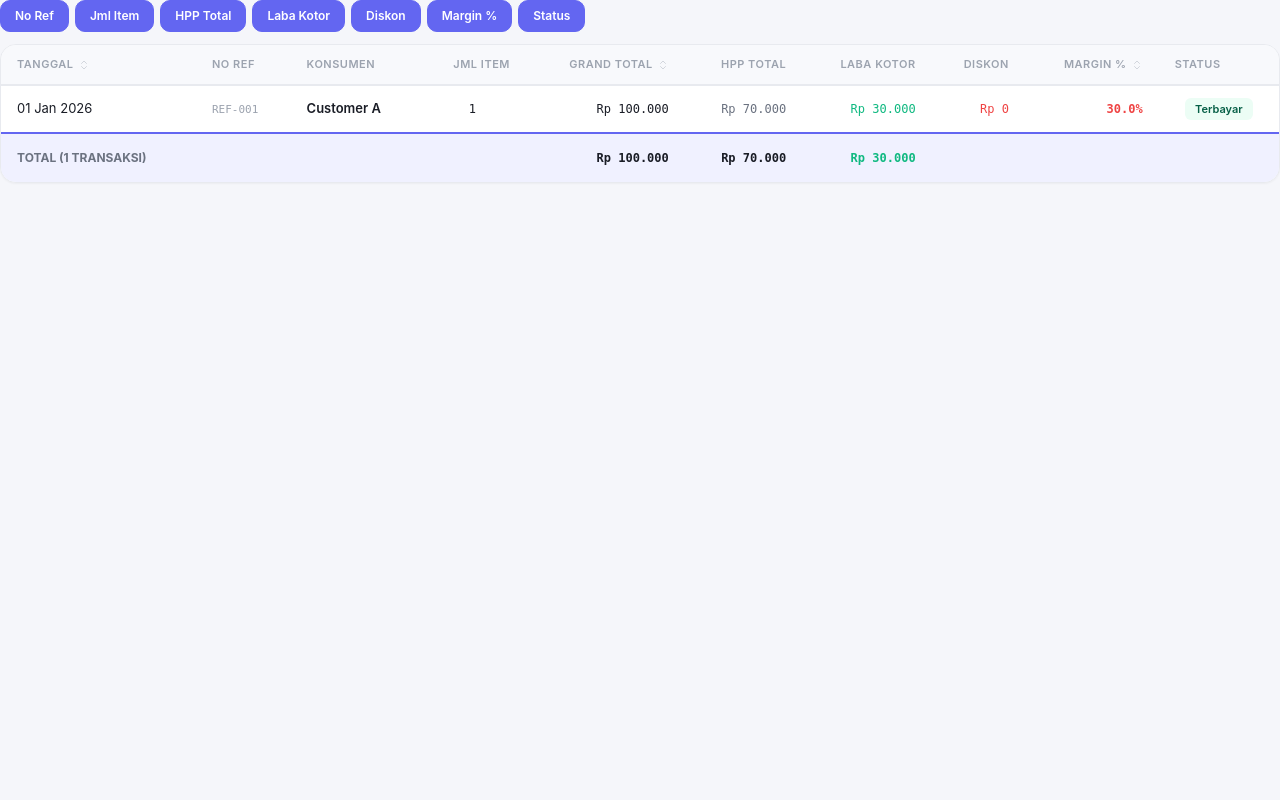
Scenario: slide-over › clicking the backdrop removes "Detail Transaksi" from DOM
Click the text "Customer A" at coordinates (640, 109), box x1=1 y1=84 x2=1279 y2=133
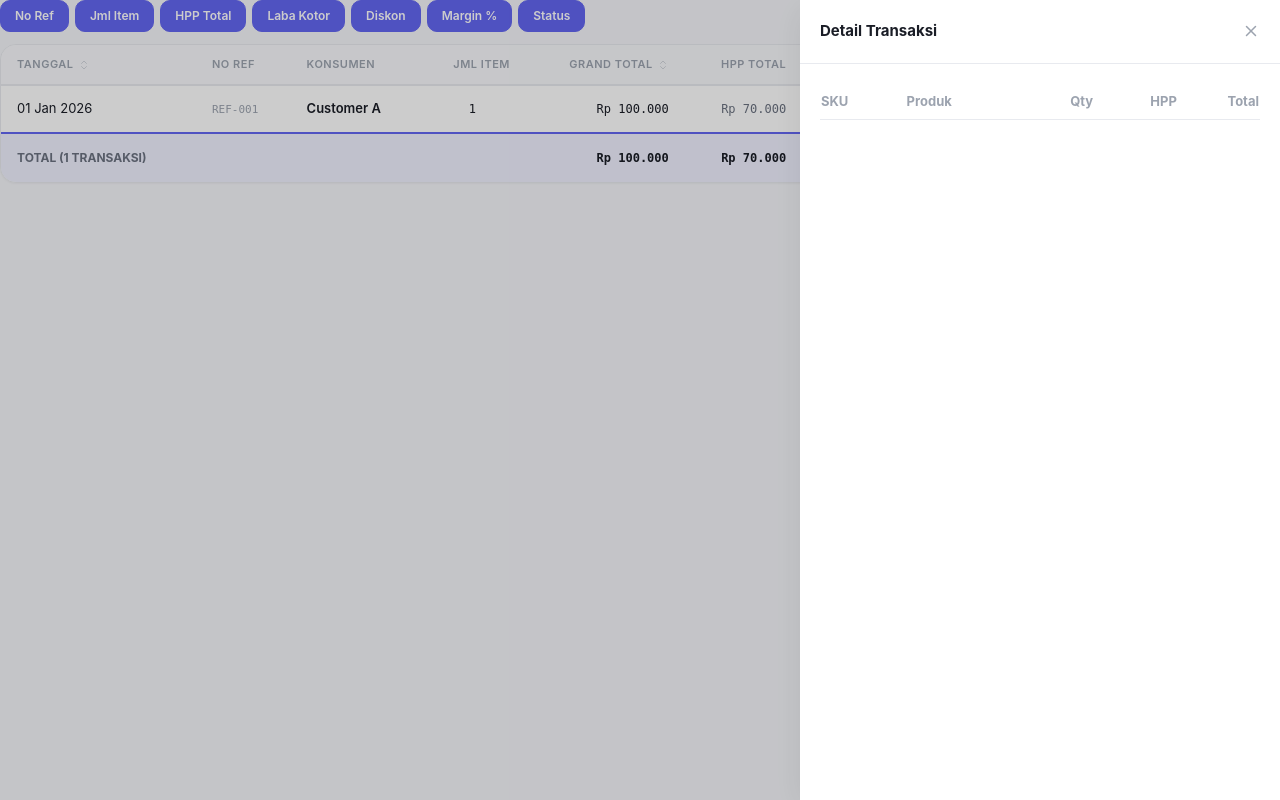
Check: the heading "Detail Transaksi" is shown, box x1=820 y1=20 x2=937 y2=42
Backdrop is a fixed overlay div — find by its role or test-id
Click the element with class "inset-0" at coordinates (640, 400), box x1=0 y1=0 x2=1279 y2=799
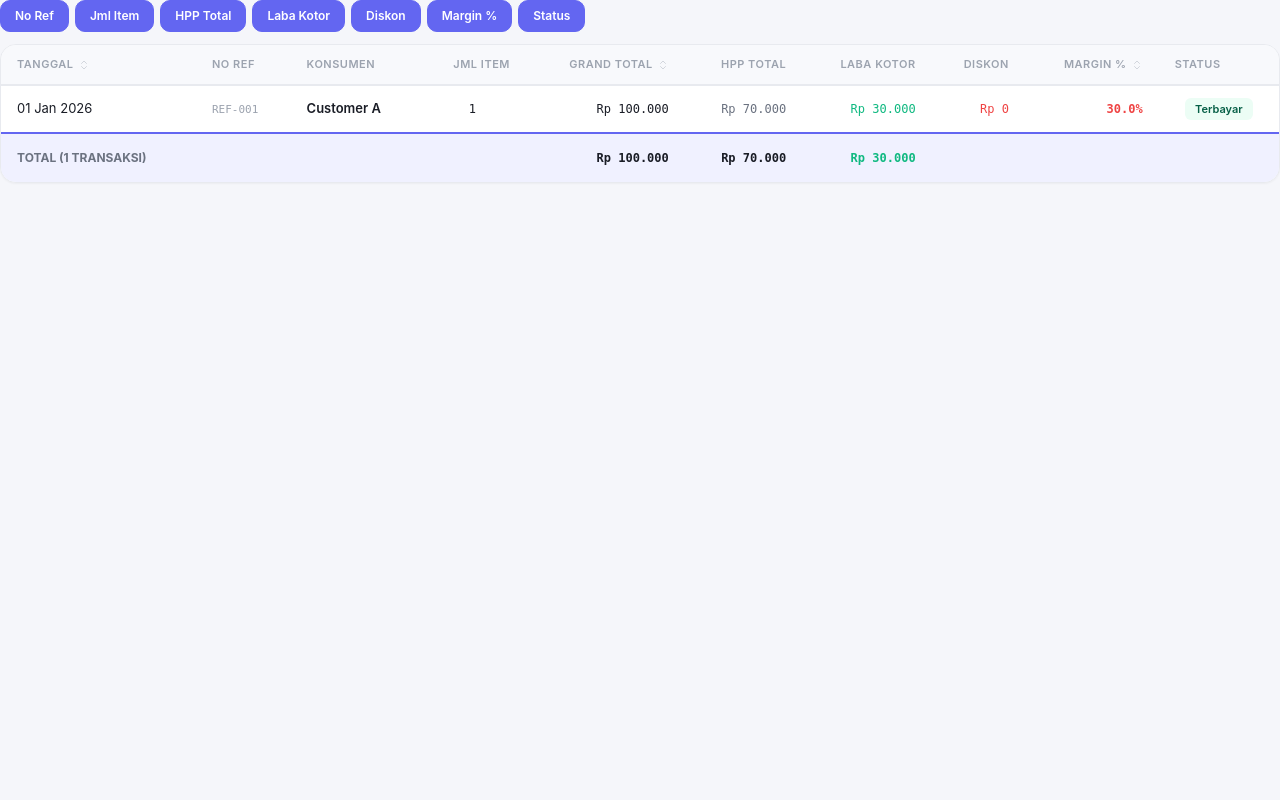
Check: the heading "Detail Transaksi" is gone
